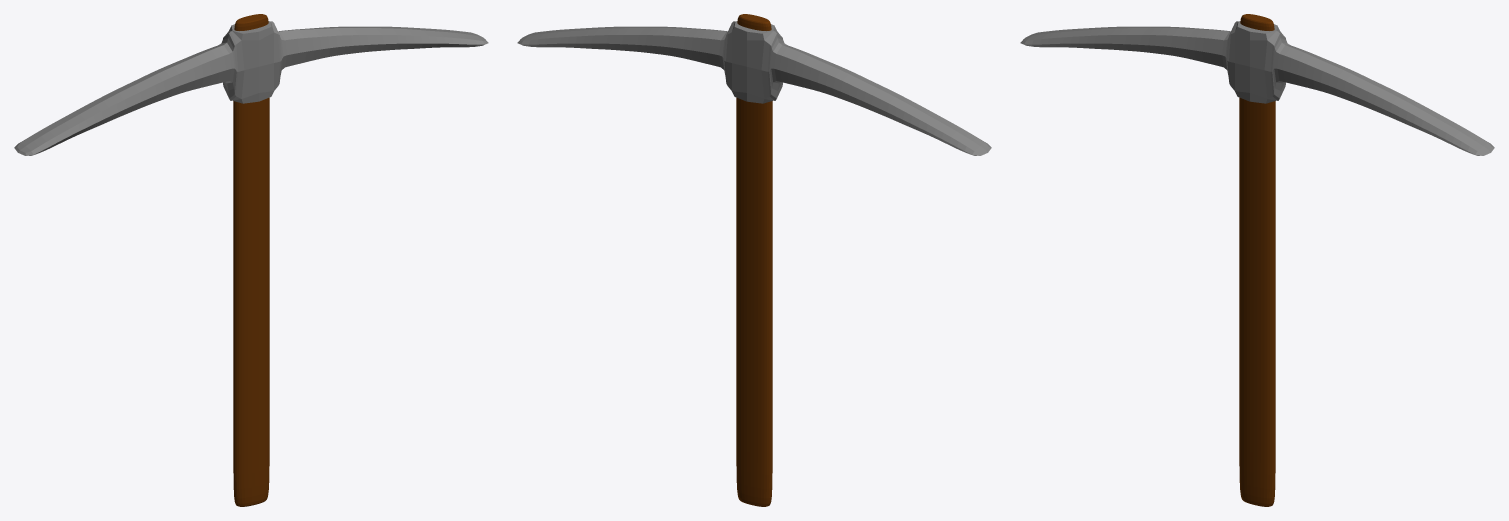
The picture shows the model from 3 angles, left to right: view 1: azimuth 30°, elevation 25°; view 2: azimuth 150°, elevation 25°; view 3: azimuth 330°, elevation 25°; orthographic projection.
Parts seen in each view (by area): view 1: Stick; view 2: Stick; view 3: Stick.
Part boxes in pixels (x1,y1,x2,y2): Stick: (14, 14, 488, 506); Stick: (517, 14, 991, 506); Stick: (1020, 14, 1494, 506).
Size of the model in its own units: 2 by 1.98 by 0.1133.
